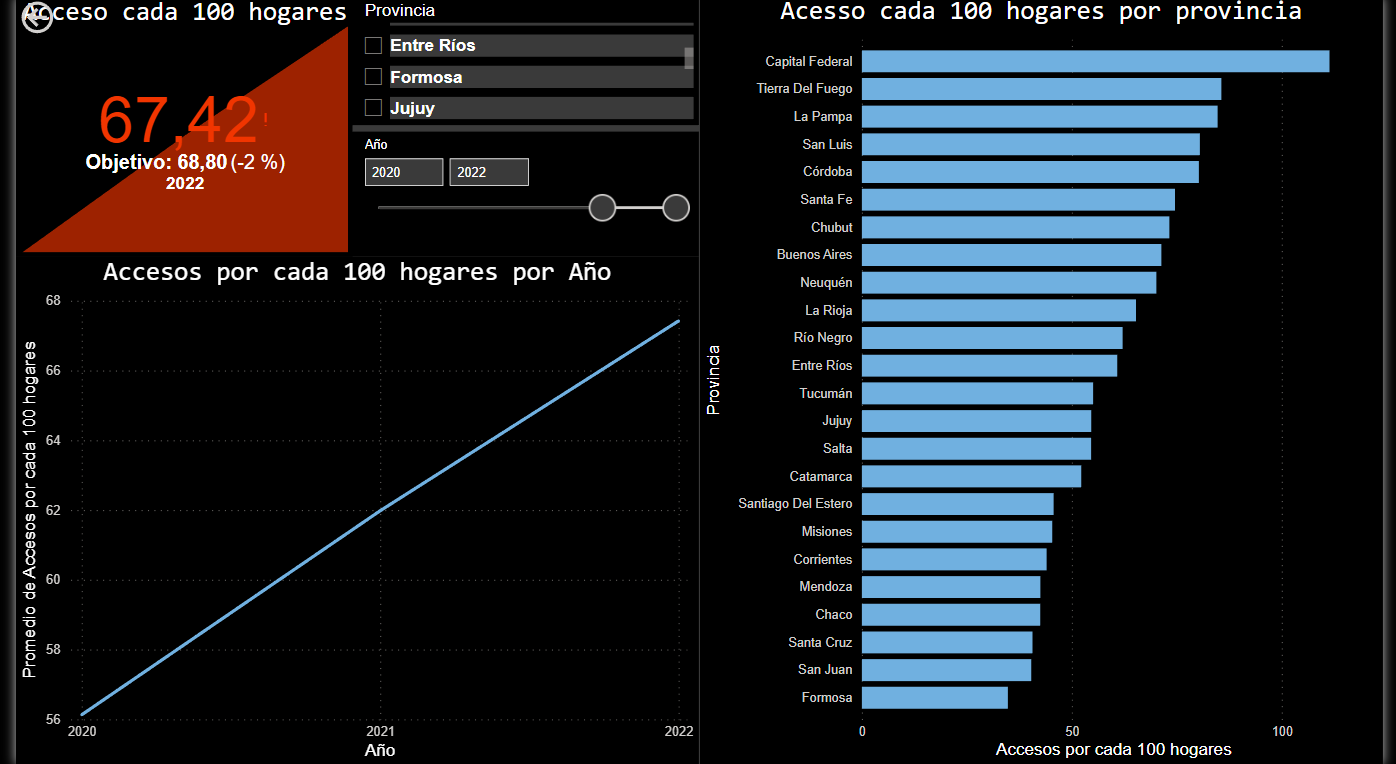

What the dashboard file says about the page in this screenshot:
{"tool":"powerbi","page":{"name":"Page 1","canvas":[1280,720],"ordinal":1},"visuals":[{"type":"kpi","title":"Acceso cada 100 hogares","fields":{"Indicator":["Sum(KPI_1_Internet_PenetracionPROV.Accesos por cada 100 hogares)"],"TrendLine":["KPI_1_Internet_PenetracionPROV.Año"],"Goal":["KPI_1_Internet_PenetracionPROV.objaccess"]},"box":[0,0,315,243.8],"z":0},{"type":"slicer","fields":{"Values":["KPI_1_Internet_PenetracionPROV.Provincia"]},"box":[313.4,0,325.6,121.1],"z":1000},{"type":"actionButton","box":[0,0,100,40],"z":2000},{"type":"slicer","fields":{"Values":["KPI_1_Internet_PenetracionPROV.Trimestre"]},"box":[313.4,127.2,325.6,116.6],"z":3000},{"type":"clusteredBarChart","title":"Acesso cada 100 hogares por provincia","fields":{"Category":["KPI_1_Internet_PenetracionPROV.Provincia"],"Y":["Sum(KPI_1_Internet_PenetracionPROV.Accesos por cada 100 hogares)"]},"box":[640.5,0,639,719.2],"z":5000},{"type":"lineChart","title":"Accesos por cada 100 hogares por Año","fields":{"Category":["KPI_1_Internet_PenetracionPROV.Año"],"Y":["Avg(KPI_1_Internet_PenetracionPROV.Accesos por cada 100 hogares)"]},"box":[0,243.8,639,475.5],"z":6000}]}

Visuals, with their boxes in screenshot pixels (x1, y1, x2, y2), scaled from the page's 1280x720 canvas onto the 1396x764 screenshot:
"Acceso cada 100 hogares" kpi: box=[0, 0, 344, 259]
slicer - KPI_1_Internet_PenetracionPROV.Provincia: box=[342, 0, 697, 129]
actionButton: box=[0, 0, 109, 42]
slicer - KPI_1_Internet_PenetracionPROV.Trimestre: box=[342, 135, 697, 259]
"Acesso cada 100 hogares por provincia" clusteredBarChart: box=[699, 0, 1395, 763]
"Accesos por cada 100 hogares por Año" lineChart: box=[0, 259, 697, 763]
